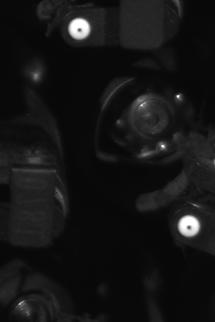fiber: (175, 211, 206, 241), (63, 15, 95, 44)
